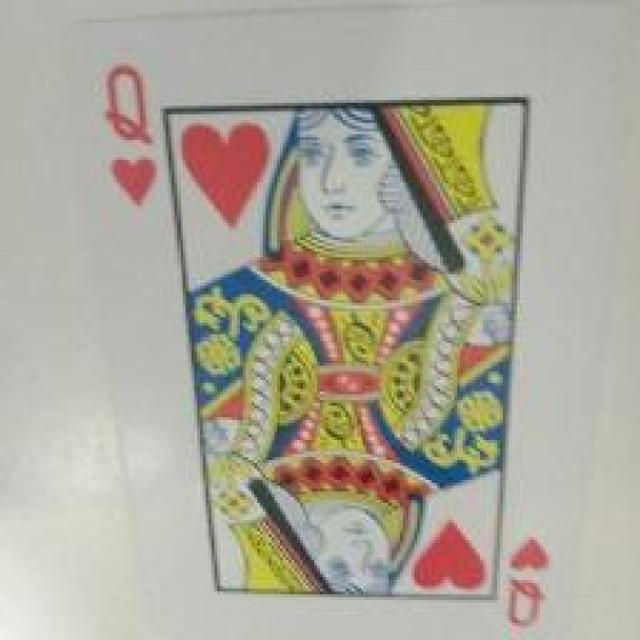Queen of hearts: (44, 19, 566, 635)
